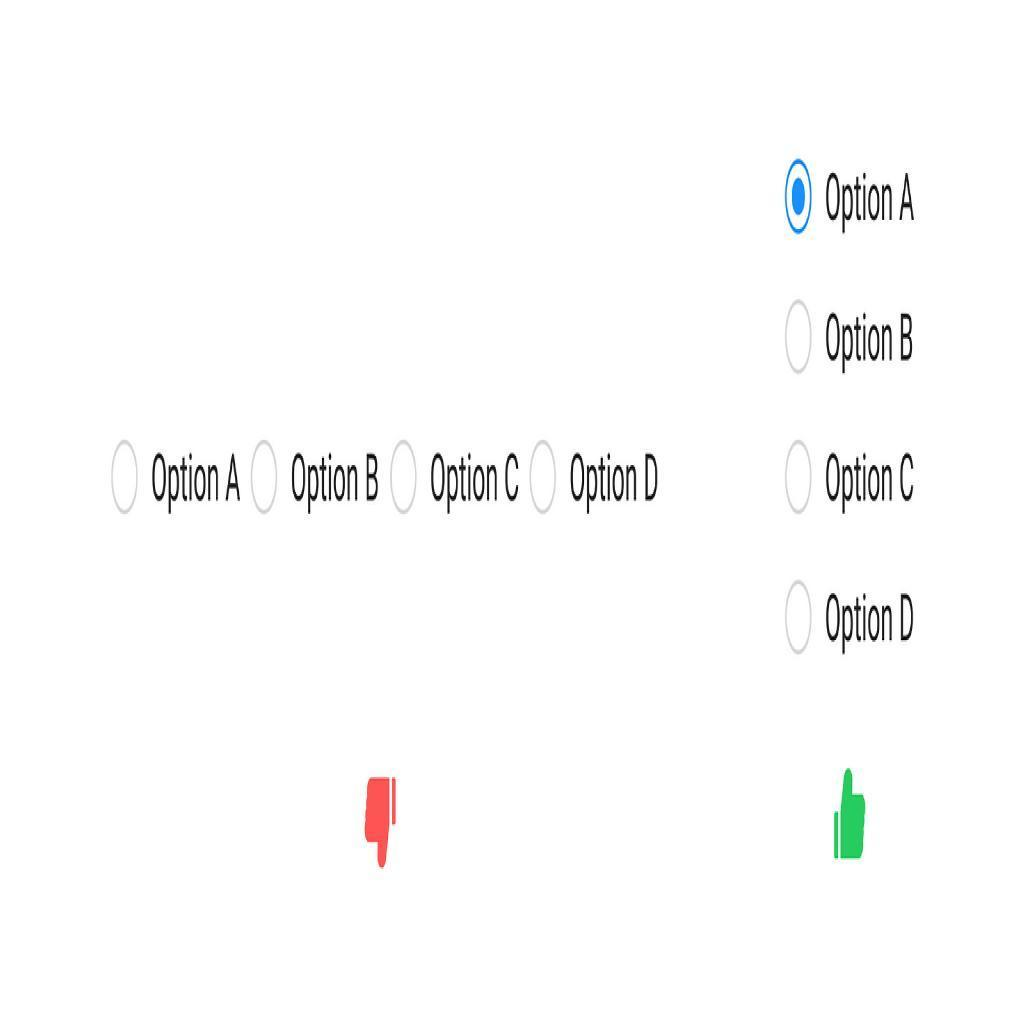radio: (108, 436, 145, 523), (249, 437, 283, 523), (782, 579, 818, 658), (783, 156, 815, 242), (783, 295, 815, 381), (390, 437, 423, 520), (530, 436, 560, 521), (785, 436, 814, 521)
